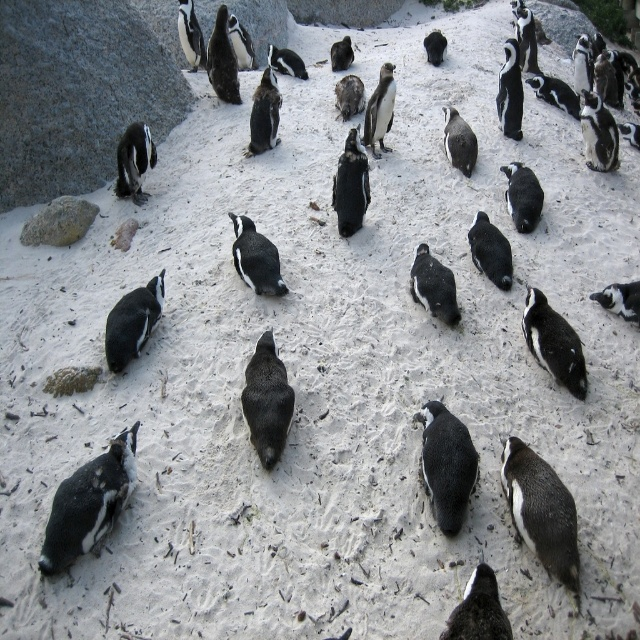Penguin: (38, 0, 640, 640)
